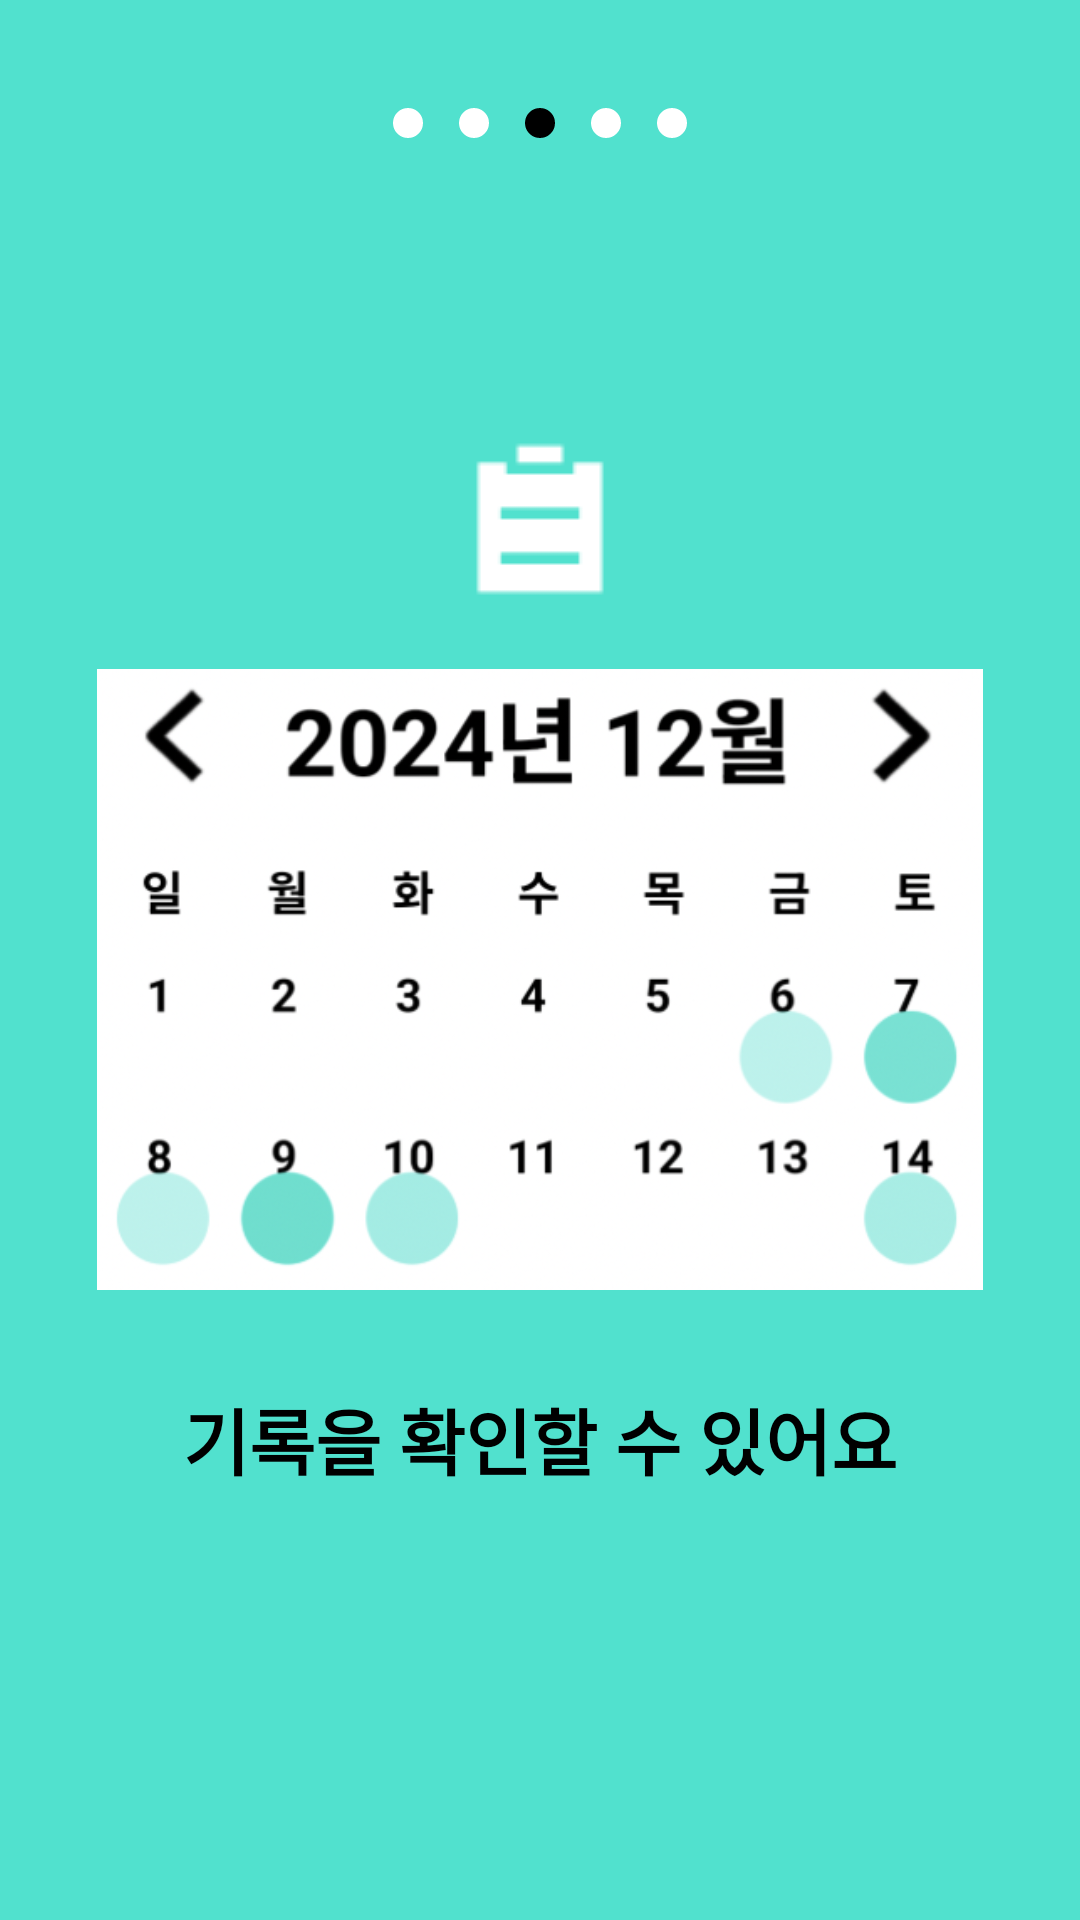

Named icons in this screenshot (1080px×1920px) and their bounding boxes, (x1, y1, x2, y2):
records: (476, 444, 604, 594)
